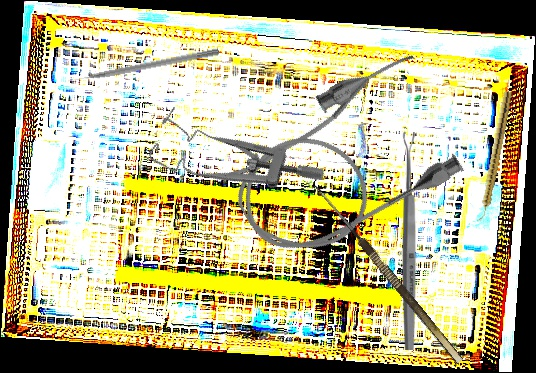Cannula: (211, 42, 477, 280)
Handpiece: (476, 90, 513, 223)
Hook Surgical: (303, 181, 464, 373)
Pusher: (66, 46, 220, 85)
Speculum: (143, 91, 328, 235)
Surgical Spoon: (402, 132, 417, 350)
